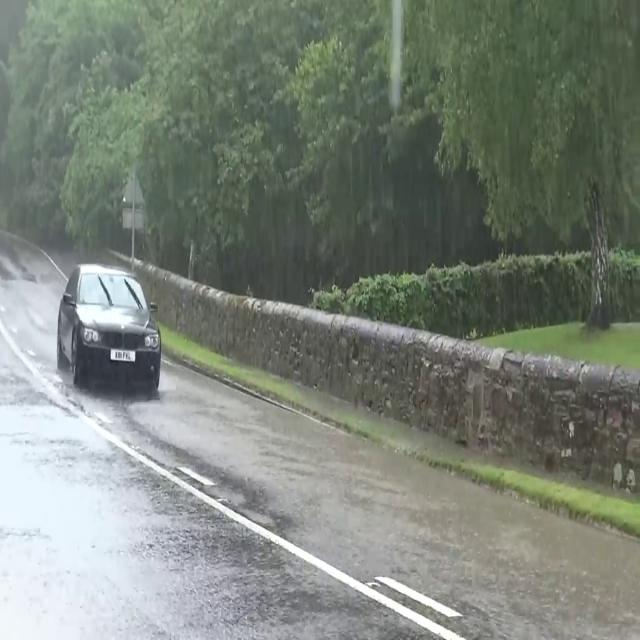license-plate-annotation: (110, 345, 138, 367)
